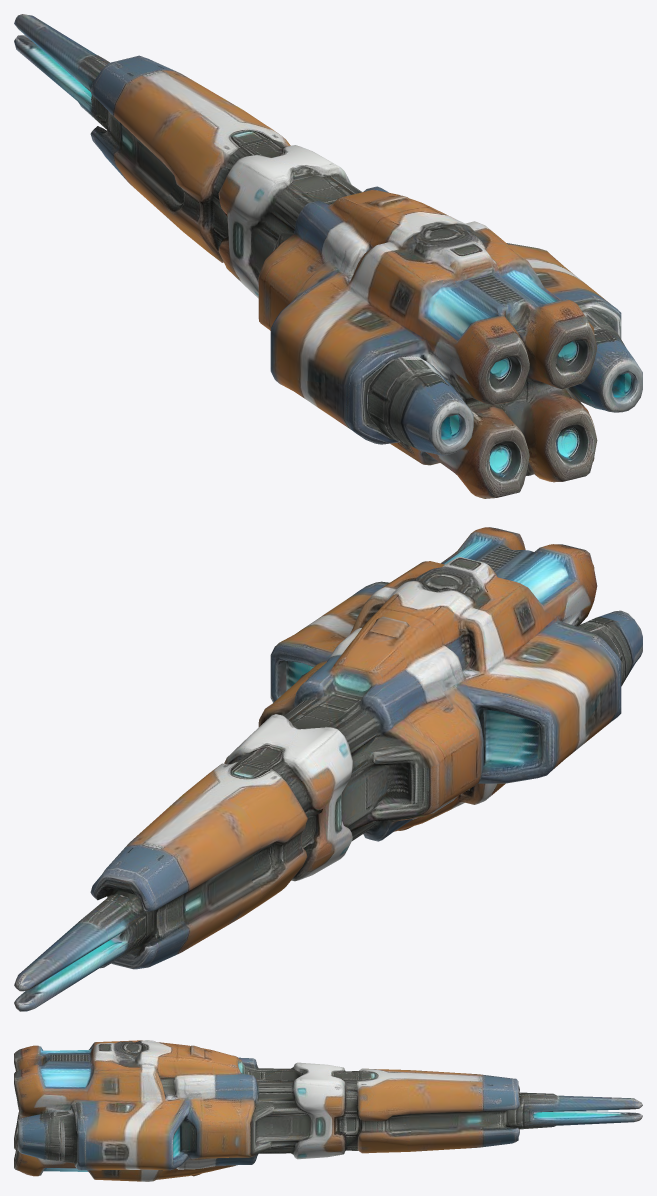
File: needle.glb
3 renders of one model, top to bottom at view 1: azimuth 30°, elevation 25°; view 2: azimuth 150°, elevation 25°; view 3: azimuth 270°, elevation 25°, orthographic. The views are drawn at different scales.
Parts seen in each view (by area): view 1: Mesh_0; view 2: Mesh_0; view 3: Mesh_0.
Boxes of the visible parts, x1,y1,x2,y2 form: Mesh_0: (14,14,642,498); Mesh_0: (14,527,642,1011); Mesh_0: (14,1040,642,1181).
Size of the model in its own units: 0.596 by 0.424 by 1.9.
Materials: 1 (1 with a texture image).
